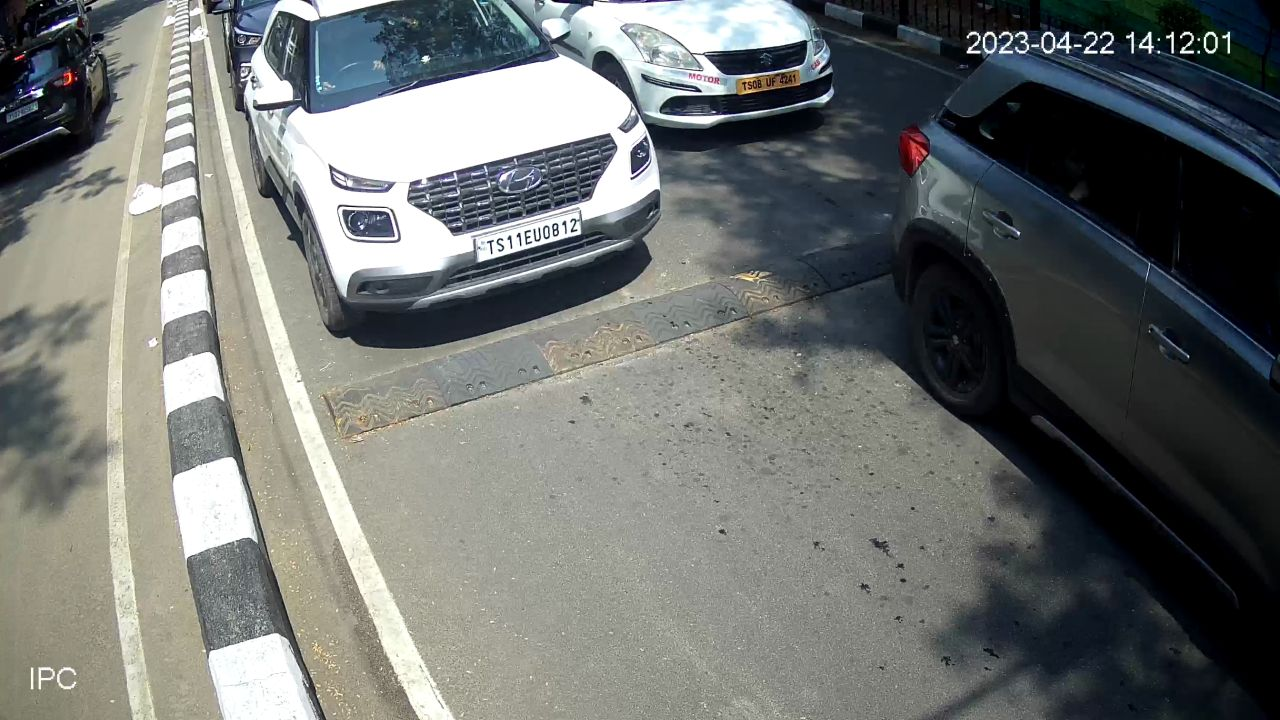license_plate: (466, 203, 585, 277), (732, 66, 805, 104)
